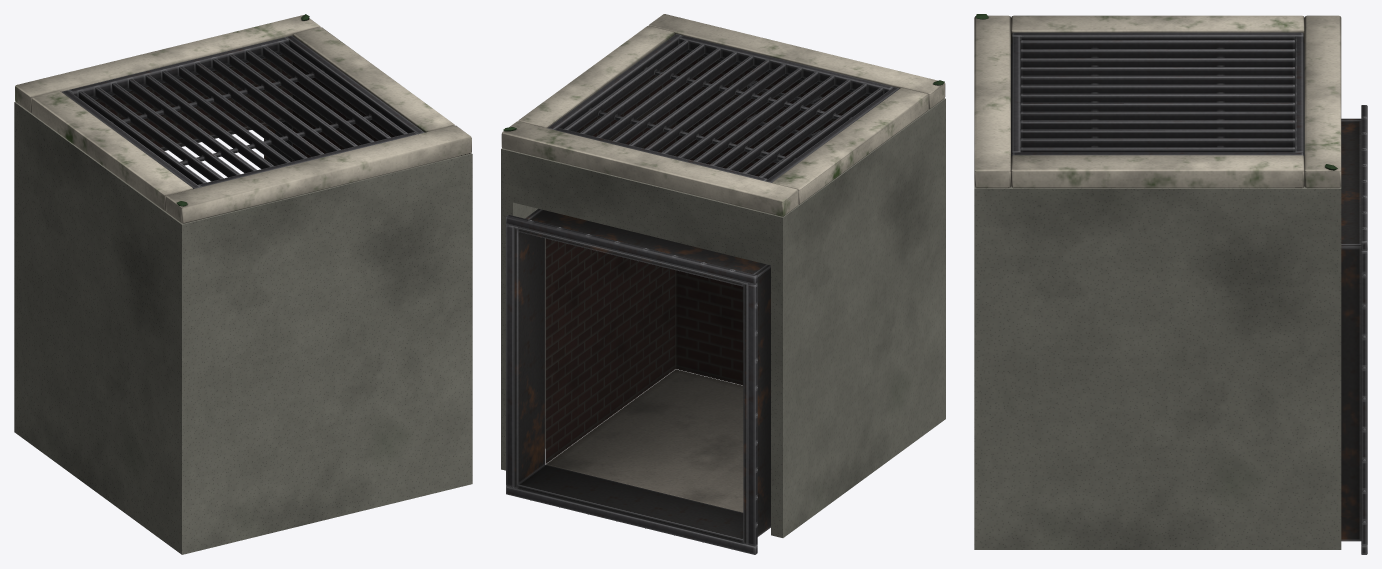
The model's file is VentFloor.fbx.
3 views of the same model, side by side, from view 1: azimuth 30°, elevation 25°; view 2: azimuth 150°, elevation 25°; view 3: azimuth 270°, elevation 25° (orthographic). The views are drawn at different scales.
Parts seen in each view (by area): view 1: VentFloor_Wall, VentFloor_Main, VentFloor_Grate0; view 2: VentFloor_Main, VentFloor_Wall, VentFloor_Grate0; view 3: VentFloor_Wall, VentFloor_Main, VentFloor_Grate0.
Boxes of the visible parts, x1,y1,x2,y2 form: VentFloor_Wall: [14, 102, 472, 554]; VentFloor_Main: [15, 14, 471, 223]; VentFloor_Grate0: [62, 35, 424, 188]; VentFloor_Main: [501, 14, 945, 554]; VentFloor_Wall: [501, 98, 945, 537]; VentFloor_Grate0: [548, 34, 899, 182]; VentFloor_Wall: [974, 186, 1341, 549]; VentFloor_Main: [974, 14, 1367, 554]; VentFloor_Grate0: [1012, 32, 1303, 155].
Bounding box in the file's own units: 701 × 838 × 750.
